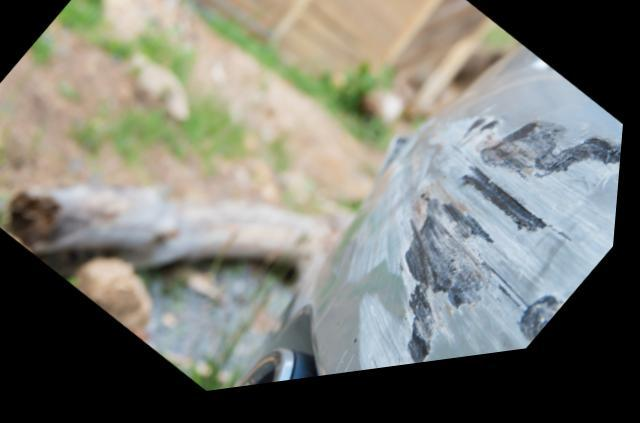scratch: (346, 128, 626, 382)
